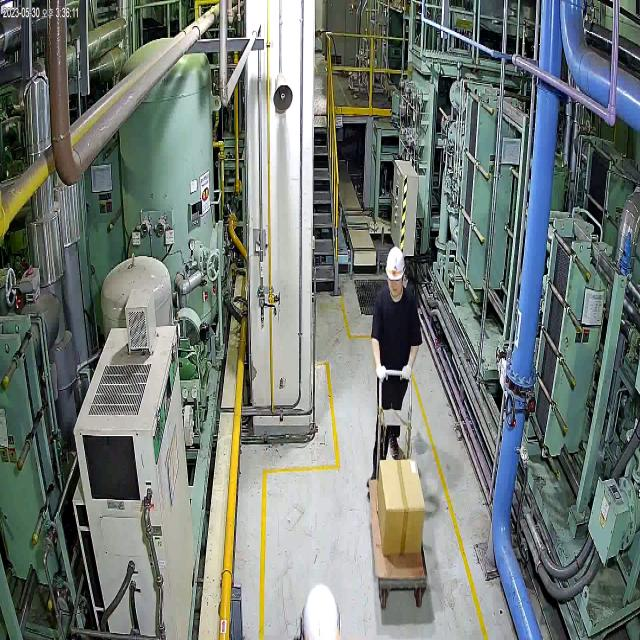worker: (368, 234, 422, 507), (287, 567, 348, 640)
